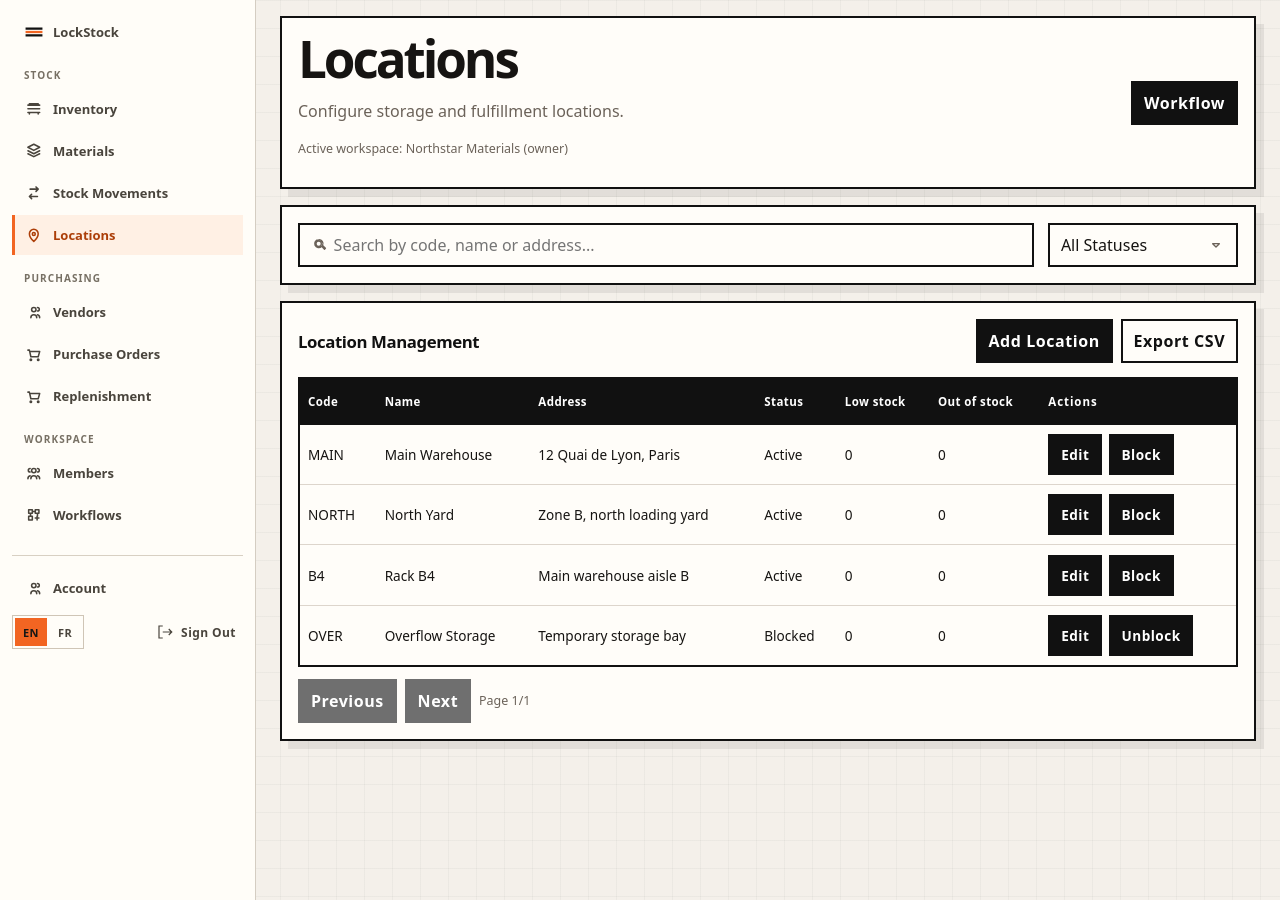
catalog dialogs in the complete workbench › opens edit and block dialogs for the selected location
Click the button "Edit" in the row of "12 Quai de Lyon, Paris" at [1075, 454], box [1048, 434, 1102, 475]
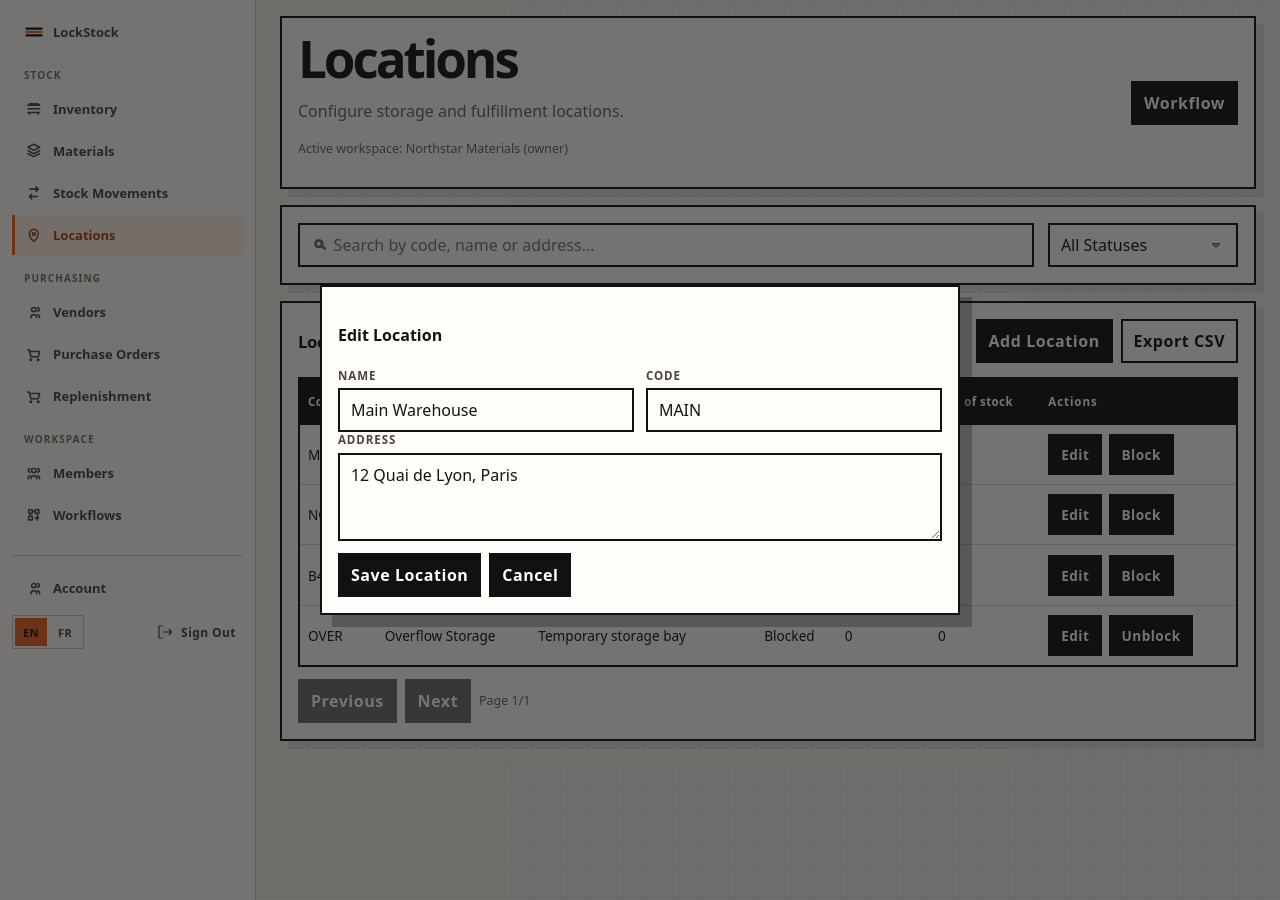
Now the field labelled "Code" holds "MAIN", box [646, 388, 942, 432]
Click the button "Cancel" at [530, 575], box [489, 553, 571, 597]
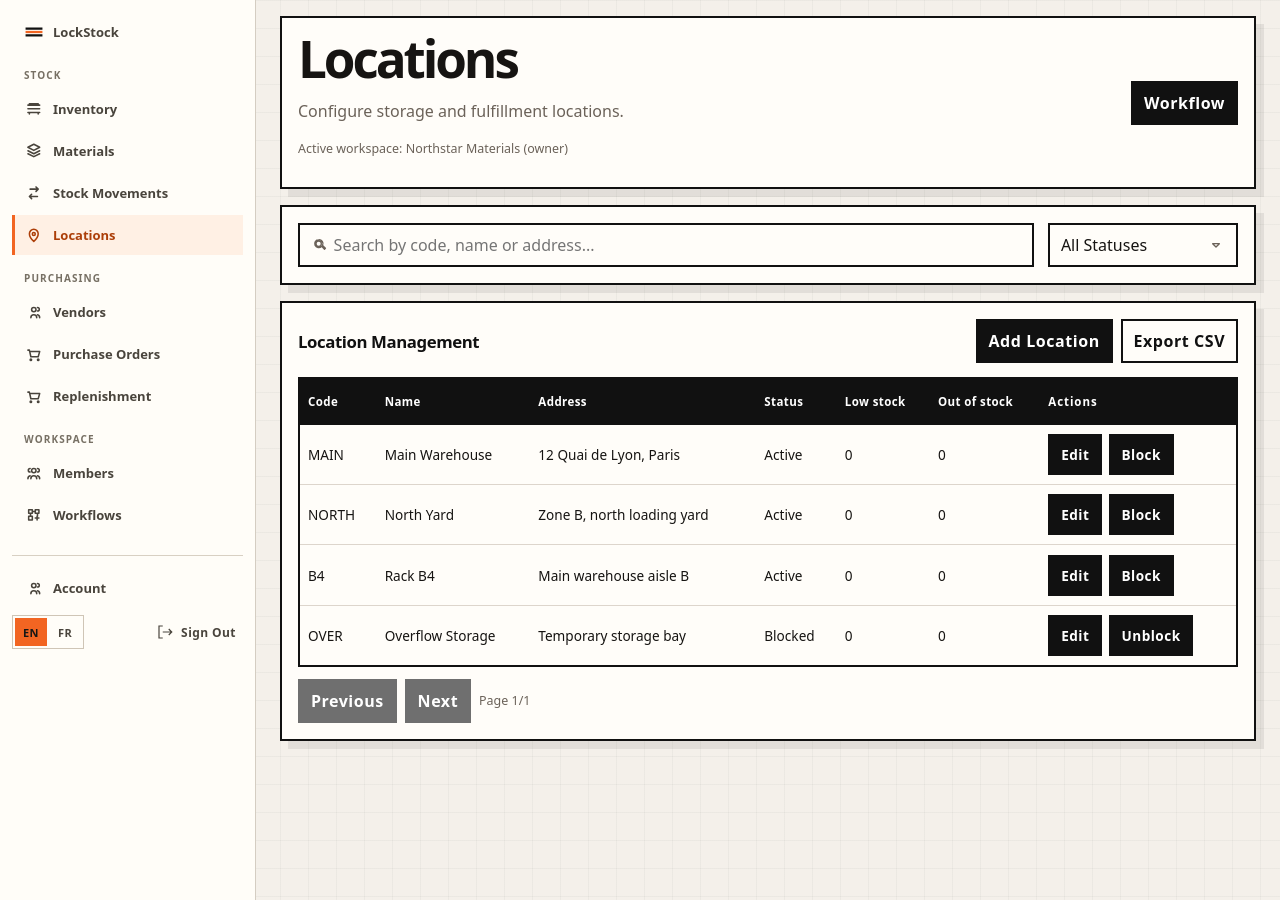
Click the button "Block" in the row of "12 Quai de Lyon, Paris" at [1141, 454], box [1109, 434, 1174, 475]
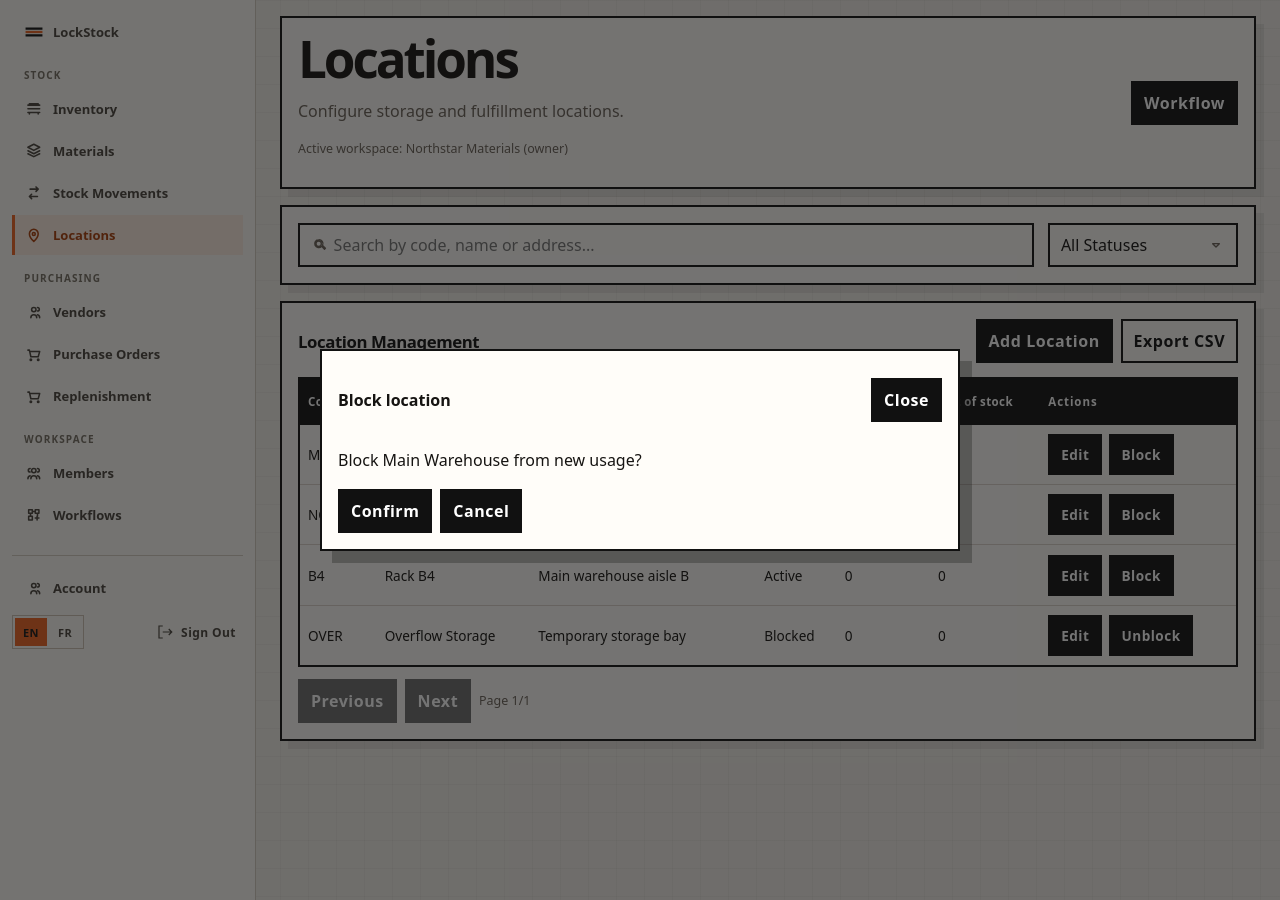
Now the dialog named "Confirm location usage change" shows "Main Warehouse", box [338, 449, 642, 471]
